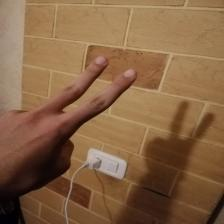two: (3, 56, 138, 189)
